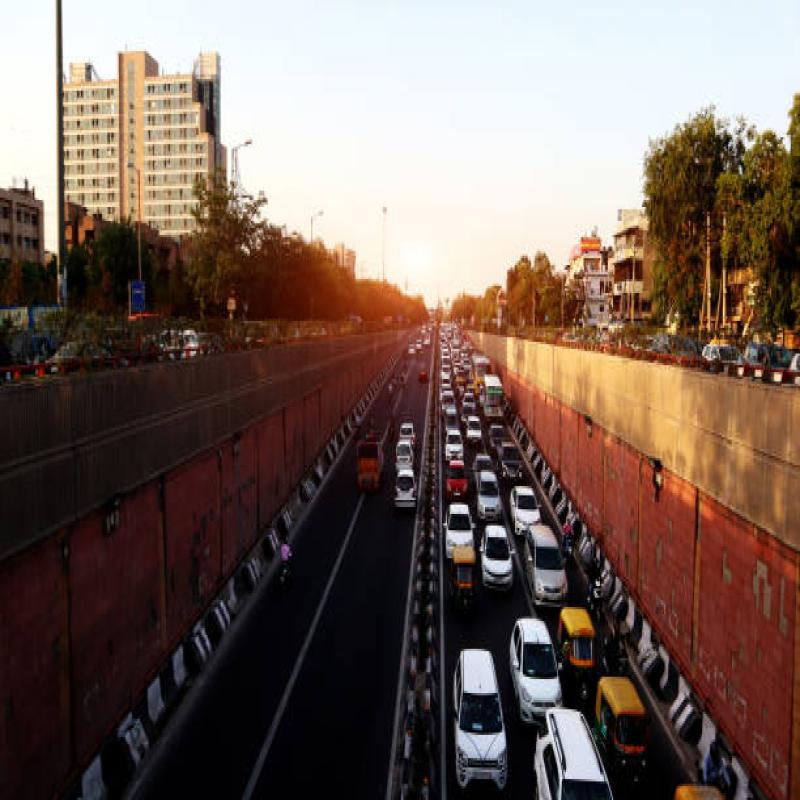auto: (589, 673, 654, 778), (556, 595, 599, 699)
car: (456, 638, 508, 800), (534, 704, 614, 800), (510, 601, 558, 730), (524, 524, 568, 610), (476, 518, 516, 589), (393, 462, 424, 525), (444, 504, 474, 567), (445, 501, 473, 561), (474, 462, 503, 513), (446, 448, 472, 502), (512, 483, 536, 530)
